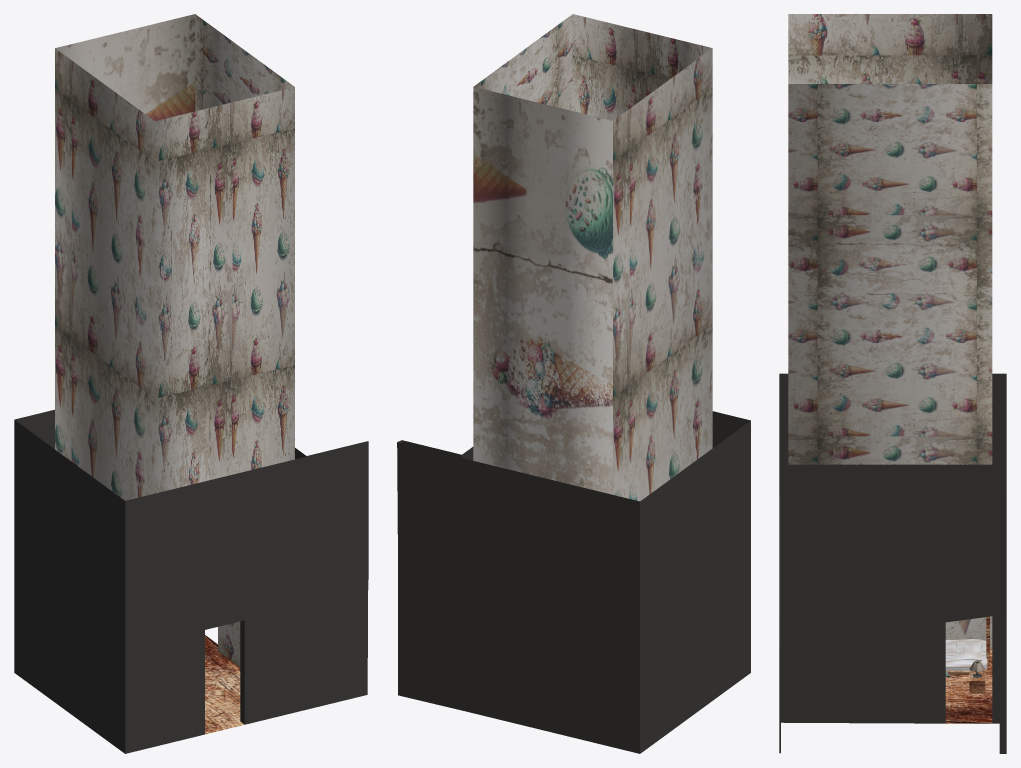
File: cuarto.fbx
3 renders of one model, left to right at view 1: azimuth 30°, elevation 25°; view 2: azimuth 150°, elevation 25°; view 3: azimuth 270°, elevation 25°, orthographic. The views are drawn at different scales.
Visible parts, largest first — view 1: Cube.001; view 2: Cube.001; view 3: Cube.001.
Boxes of the visible parts, bbox=[...] form: Cube.001: bbox=[14, 14, 368, 753]; Cube.001: bbox=[397, 14, 750, 753]; Cube.001: bbox=[779, 14, 1006, 753].
Bounding box in the file's own units: 404 × 985 × 319.
